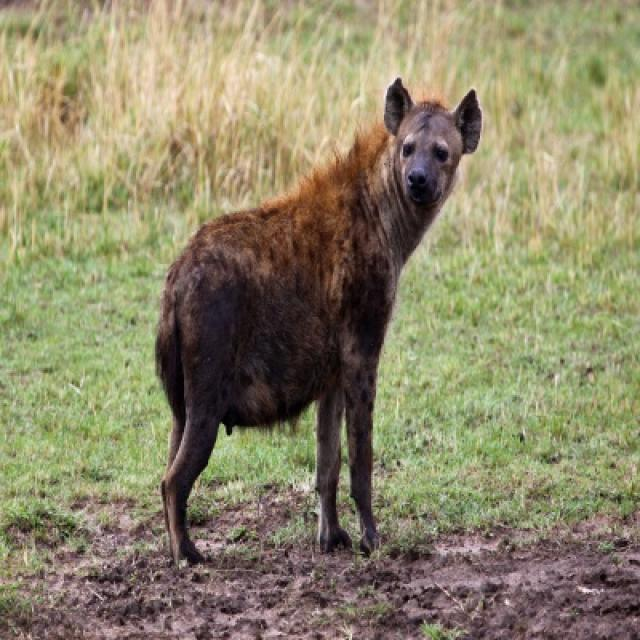hyena: (154, 78, 485, 568)
